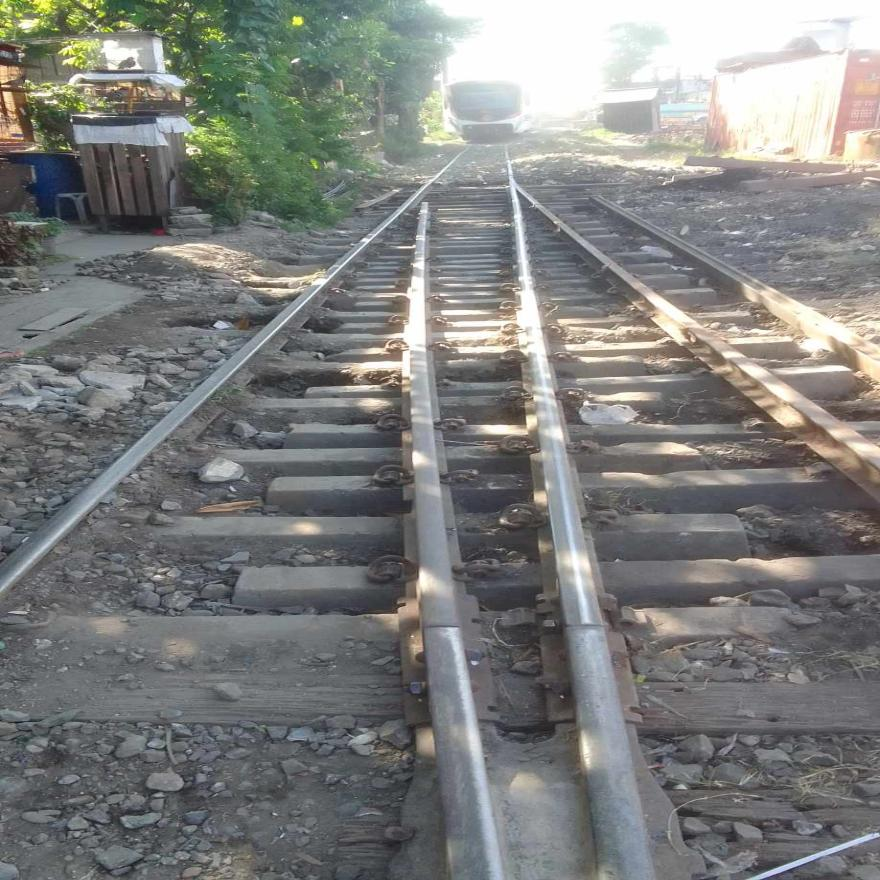railway-gap: (376, 593, 507, 663), (538, 600, 630, 651)
